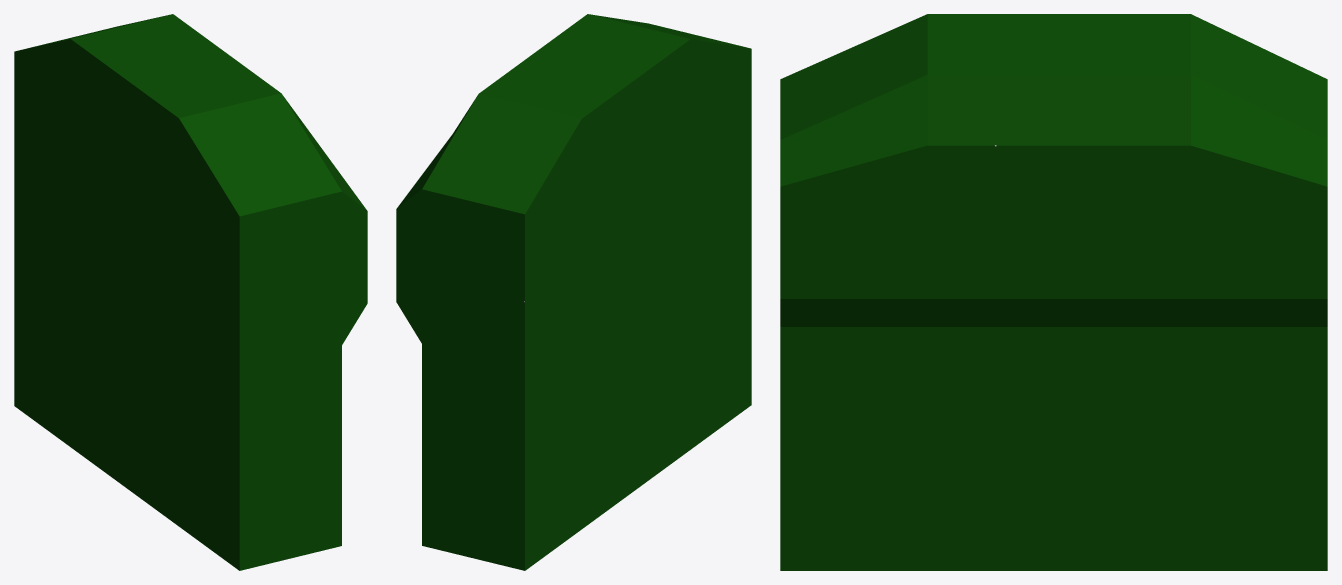
File: Item_Bag.fbx
3 renders of one model, left to right at view 1: azimuth 30°, elevation 25°; view 2: azimuth 150°, elevation 25°; view 3: azimuth 270°, elevation 25°, orthographic. The views are drawn at different scales.
Visible parts, largest first — view 1: Cube; view 2: Cube; view 3: Cube.
Boxes of the visible parts, x1,y1,x2,y2 form: Cube: (14, 14, 367, 570); Cube: (396, 14, 751, 570); Cube: (780, 14, 1327, 570).
Size of the model in its own units: 65.62 by 200 by 200.
1 material, 1 textured.
